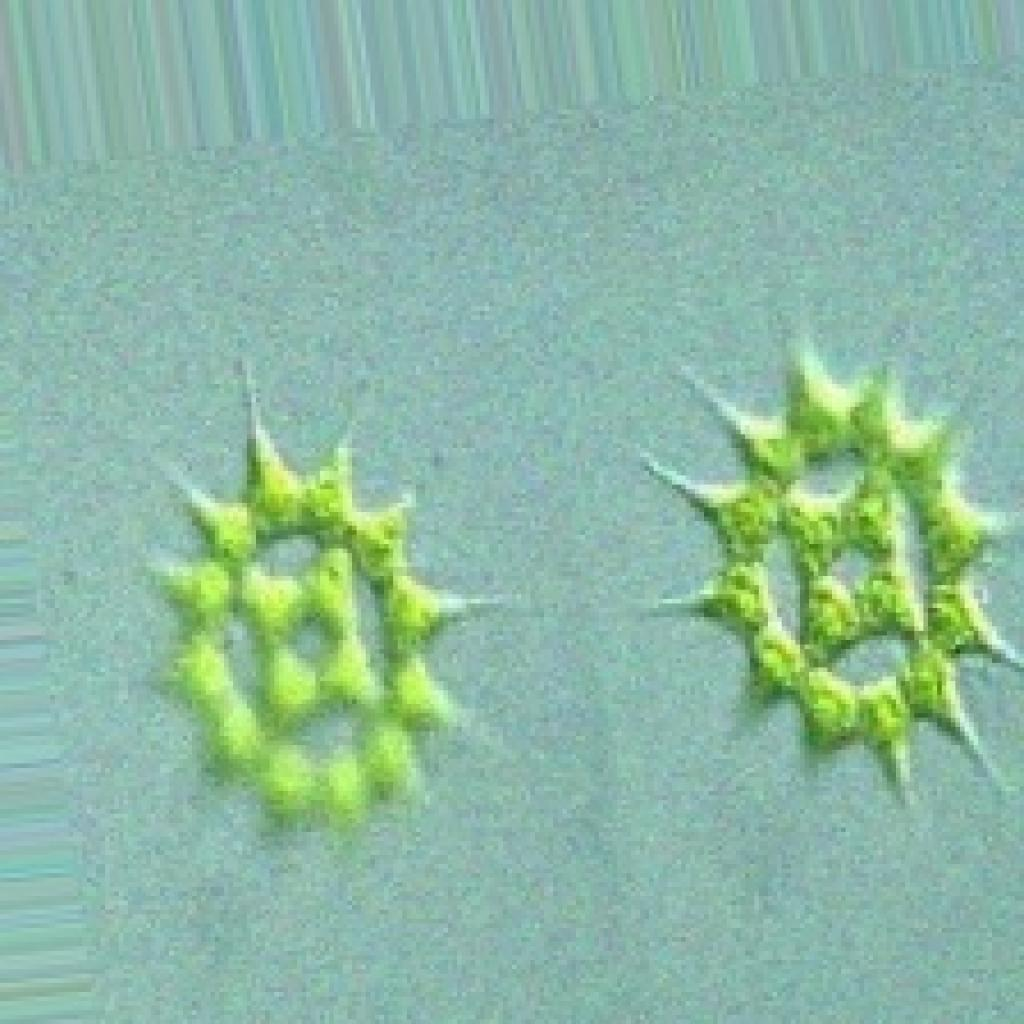Microalgae: (636, 329, 1020, 809), (142, 357, 484, 832)
